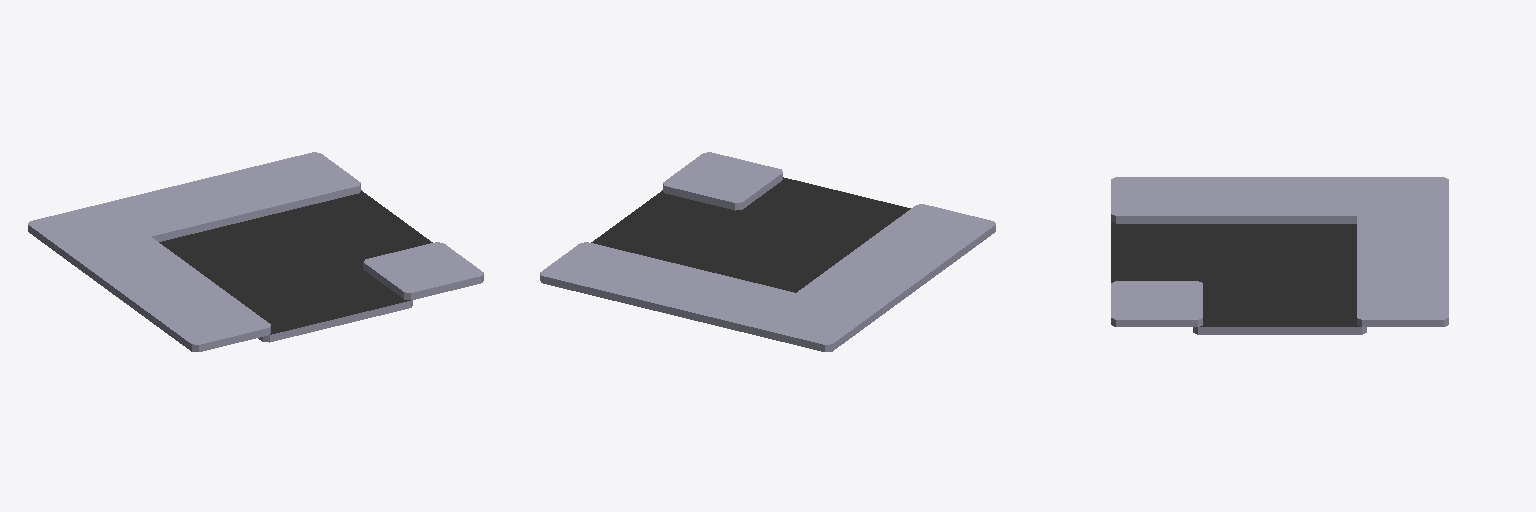
File: street2.obj
3 renders of one model, left to right at view 1: azimuth 30°, elevation 25°; view 2: azimuth 150°, elevation 25°; view 3: azimuth 270°, elevation 25°, orthographic.
Size of the model in its own units: 4.12 by 0.2 by 4.12.